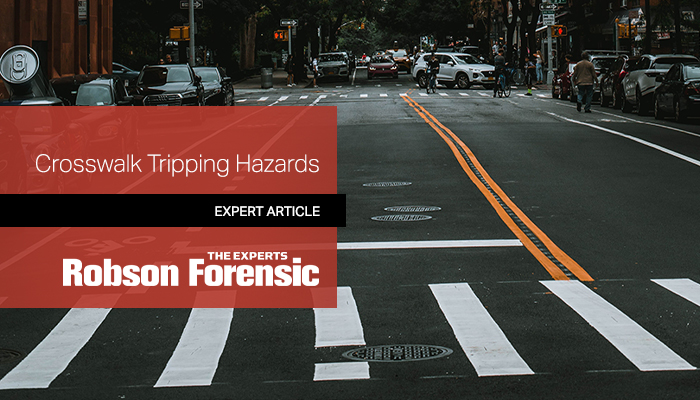Crosswalk: (14, 264, 700, 390)
